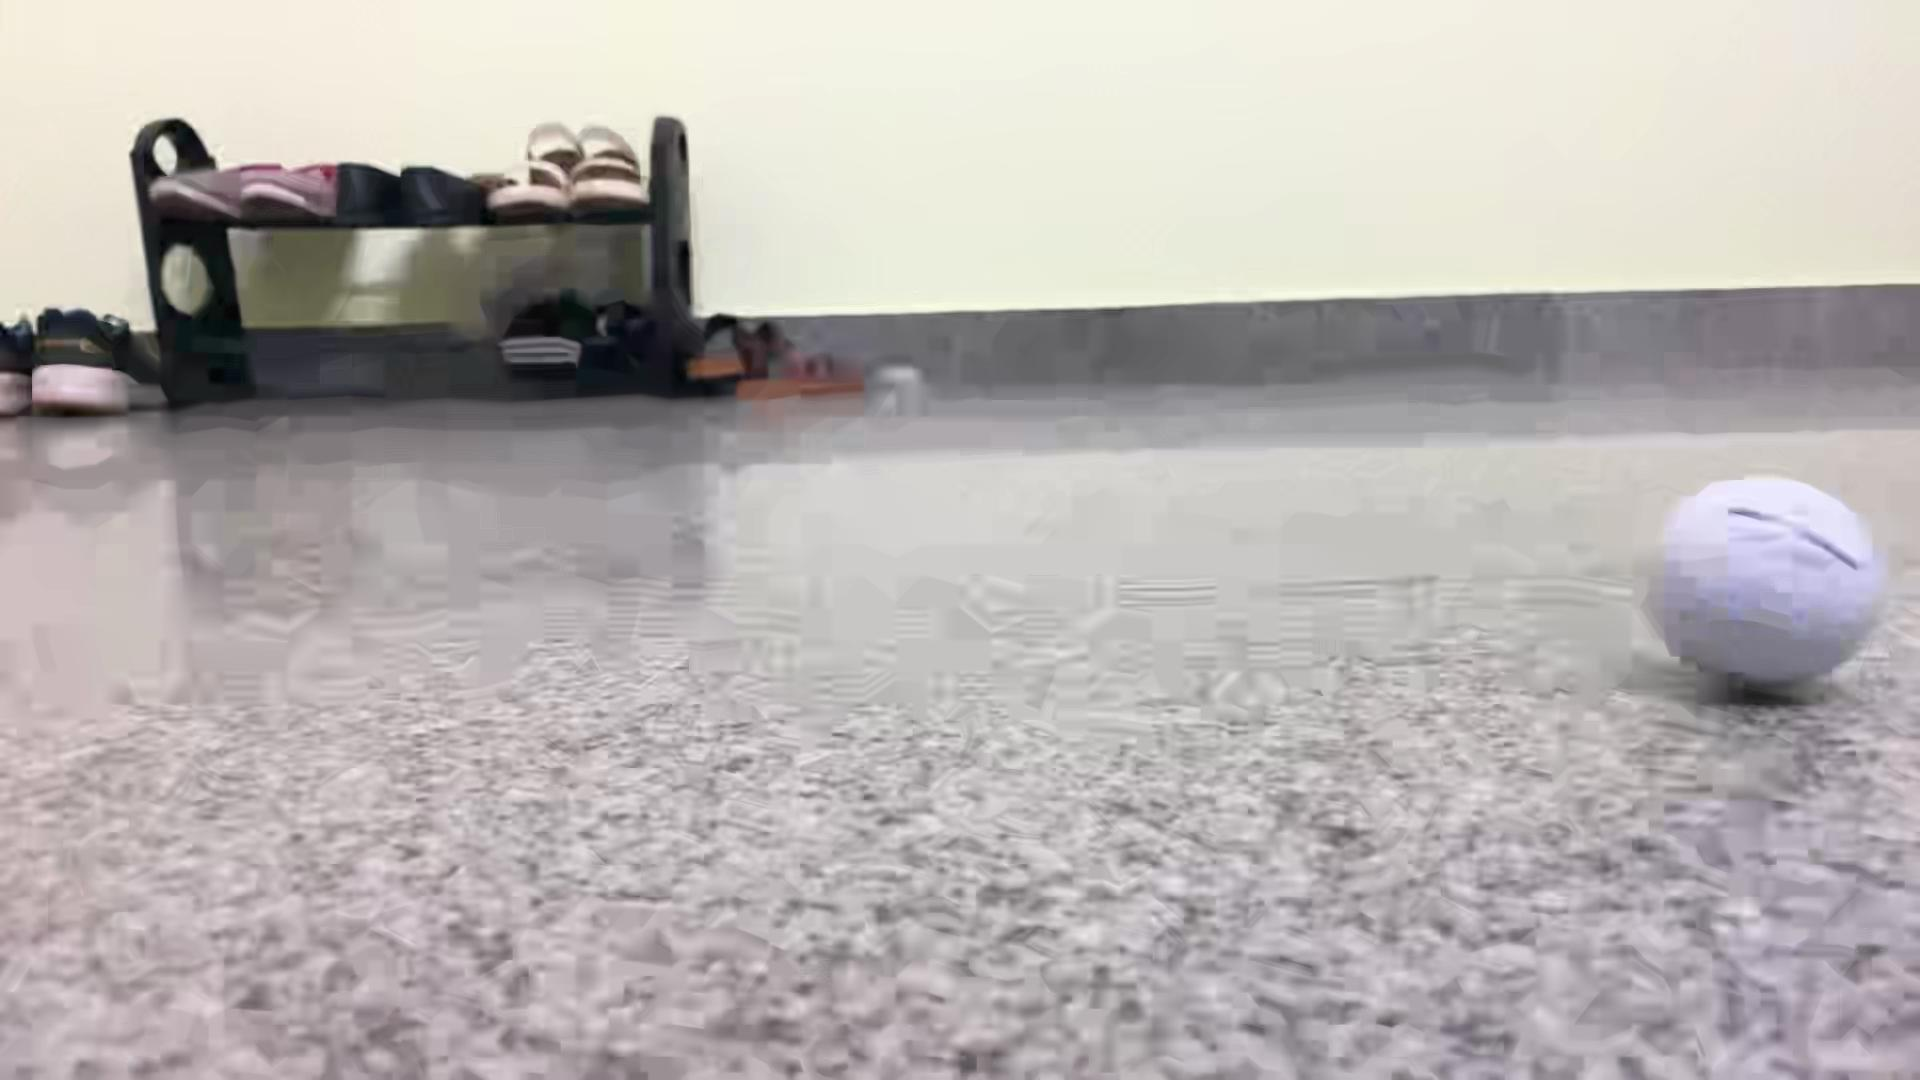golfball: (1642, 477, 1882, 689)
